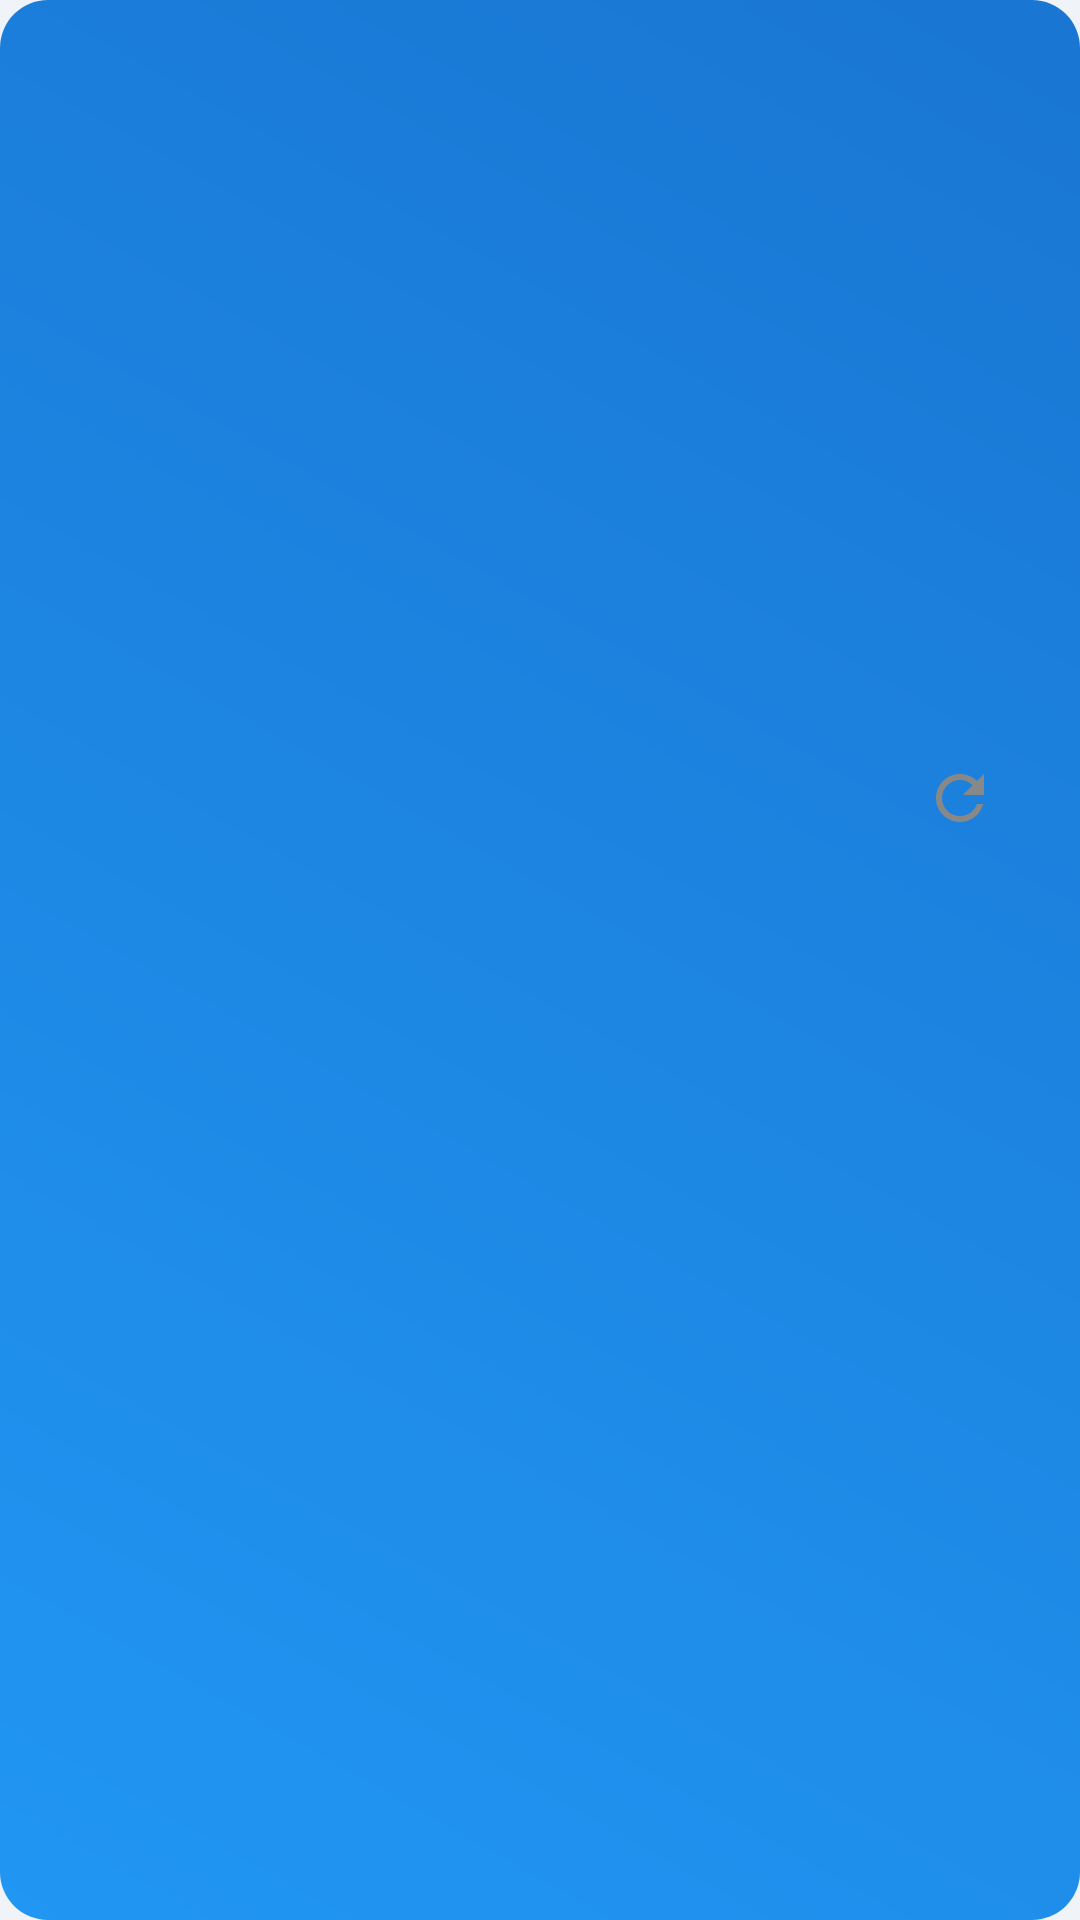

Icons on this 1080*1920 Android screen, each with the point to tap as point (x, y):
Refresh widget: point (960, 798)
